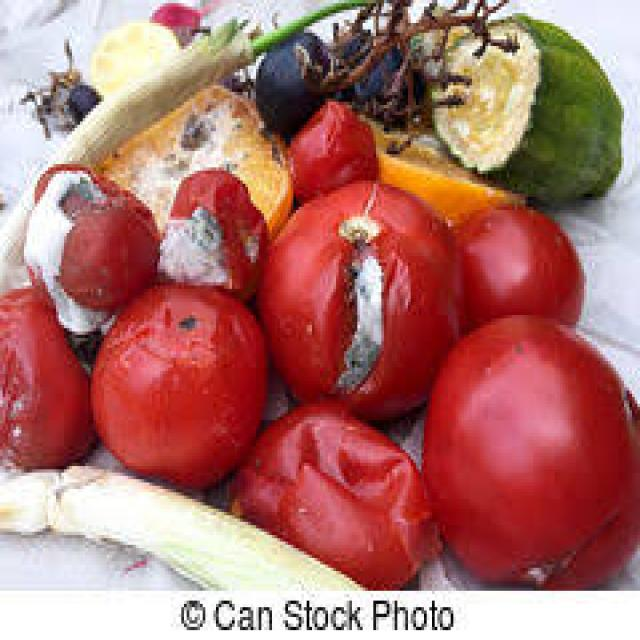organic waste: (0, 0, 392, 286), (419, 309, 637, 584), (256, 174, 461, 420), (0, 463, 363, 584), (224, 397, 440, 584), (85, 276, 267, 489), (424, 17, 621, 200), (93, 79, 291, 233), (296, 0, 515, 118), (19, 161, 157, 341), (355, 108, 520, 217), (448, 197, 581, 331), (0, 282, 96, 463), (154, 168, 266, 296), (285, 95, 376, 194), (253, 26, 326, 125), (91, 16, 181, 92), (352, 26, 419, 118), (16, 43, 77, 138), (334, 26, 366, 98), (150, 0, 198, 46), (66, 79, 98, 118)
